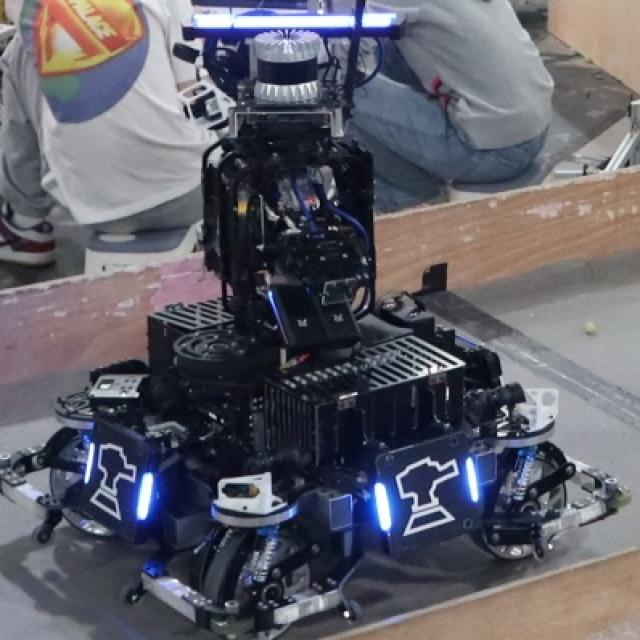Bs: (375, 450, 482, 539), (79, 437, 161, 526)
